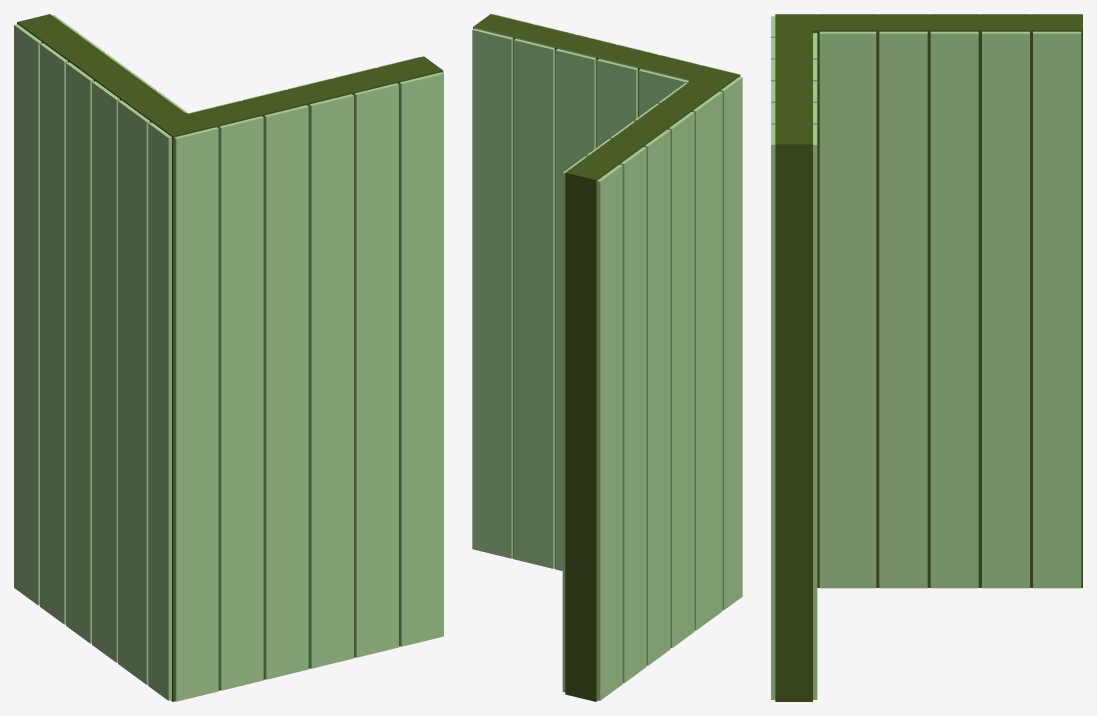
Rendered from GreenBoardsCorner.glb.
The picture shows the model from 3 angles, left to right: view 1: azimuth 30°, elevation 25°; view 2: azimuth 150°, elevation 25°; view 3: azimuth 270°, elevation 25°; orthographic projection. The views are drawn at different scales.
Visible parts, largest first — view 1: wall_verticalBoard_corner; view 2: wall_verticalBoard_corner; view 3: wall_verticalBoard_corner.
Boxes of the visible parts, <box> form: wall_verticalBoard_corner: <box>14,14,443,701</box>; wall_verticalBoard_corner: <box>472,14,742,701</box>; wall_verticalBoard_corner: <box>771,14,1082,701</box>.
Size of what is drawn, in the model's own units: 2.03 by 4 by 2.03.
Materials: 1 (1 with a texture image).
